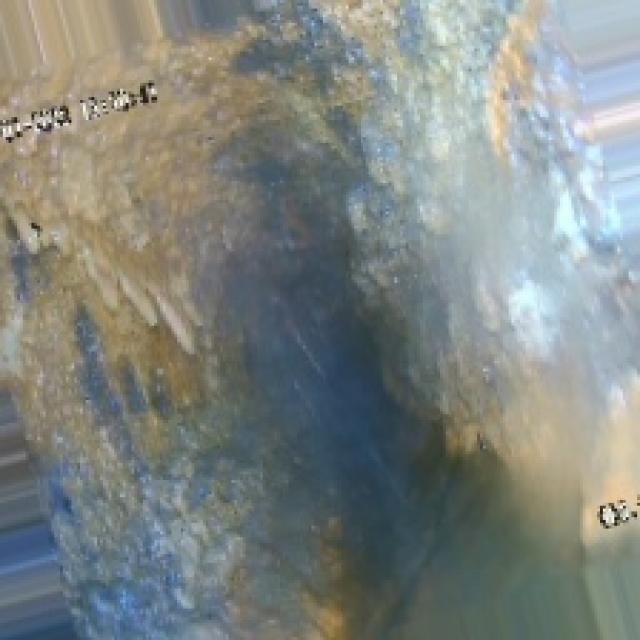encrustation: (69, 157, 594, 480)
